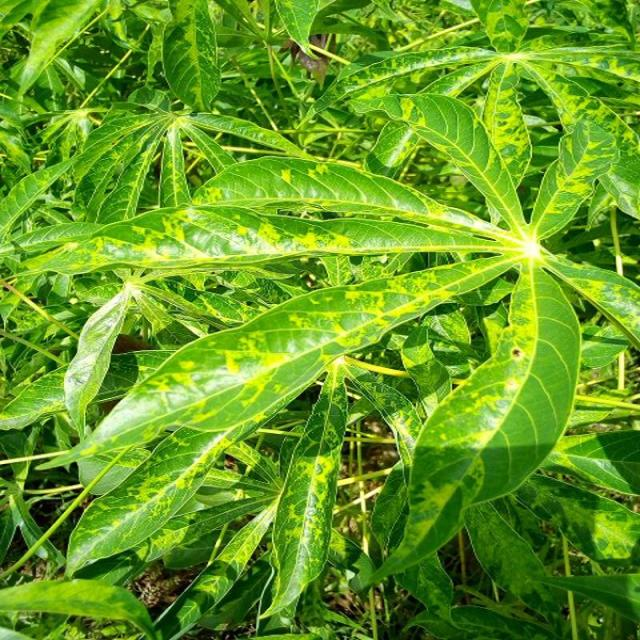cassava leaf: (2, 1, 638, 634), (351, 261, 582, 592)
